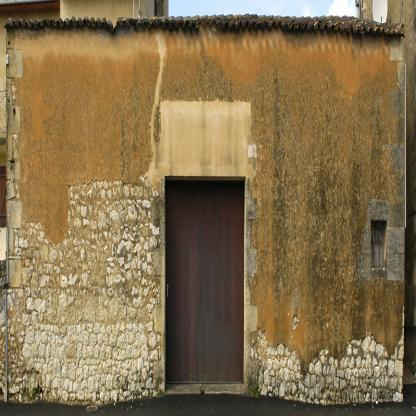Building Outline: (4, 12, 406, 402)
Door: (166, 179, 244, 384)
Facade: (4, 12, 406, 403)
Ground Floor: (6, 31, 403, 402)
Roof: (3, 12, 406, 37)
Window: (371, 219, 387, 267)
